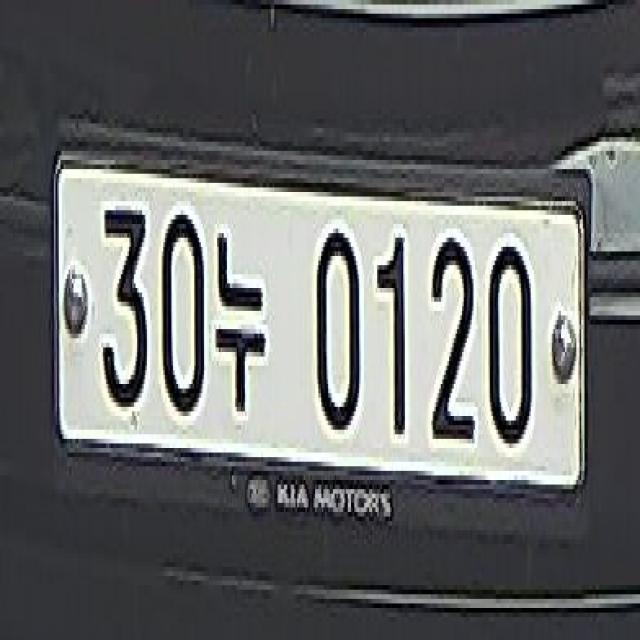0: (160, 206, 207, 420), (313, 224, 361, 430), (490, 233, 534, 444)
1: (376, 224, 413, 443)
2: (432, 229, 477, 448)
3: (103, 201, 150, 412)
license_plate: (52, 128, 586, 507)
nu: (214, 224, 264, 425)
